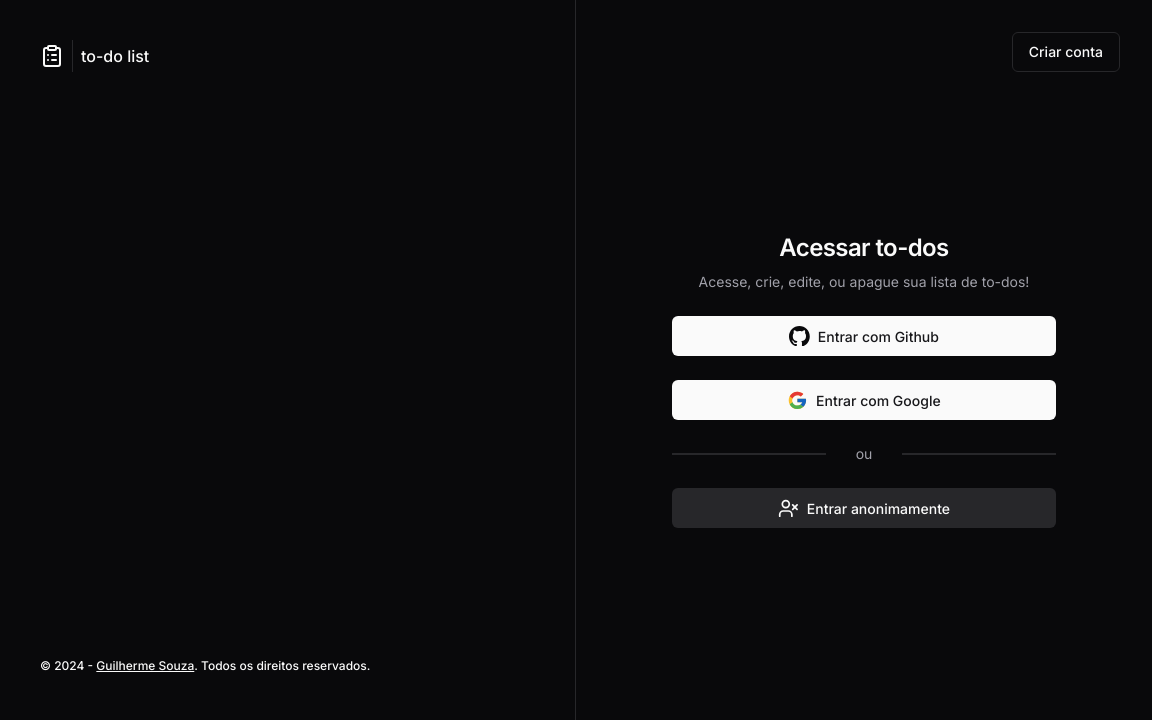
Test: Anonymous dashboard › should go back to sign-in corretly
Click the button with test id "sign-in-anon-btn" at (864, 508), box [672,488,1056,528]
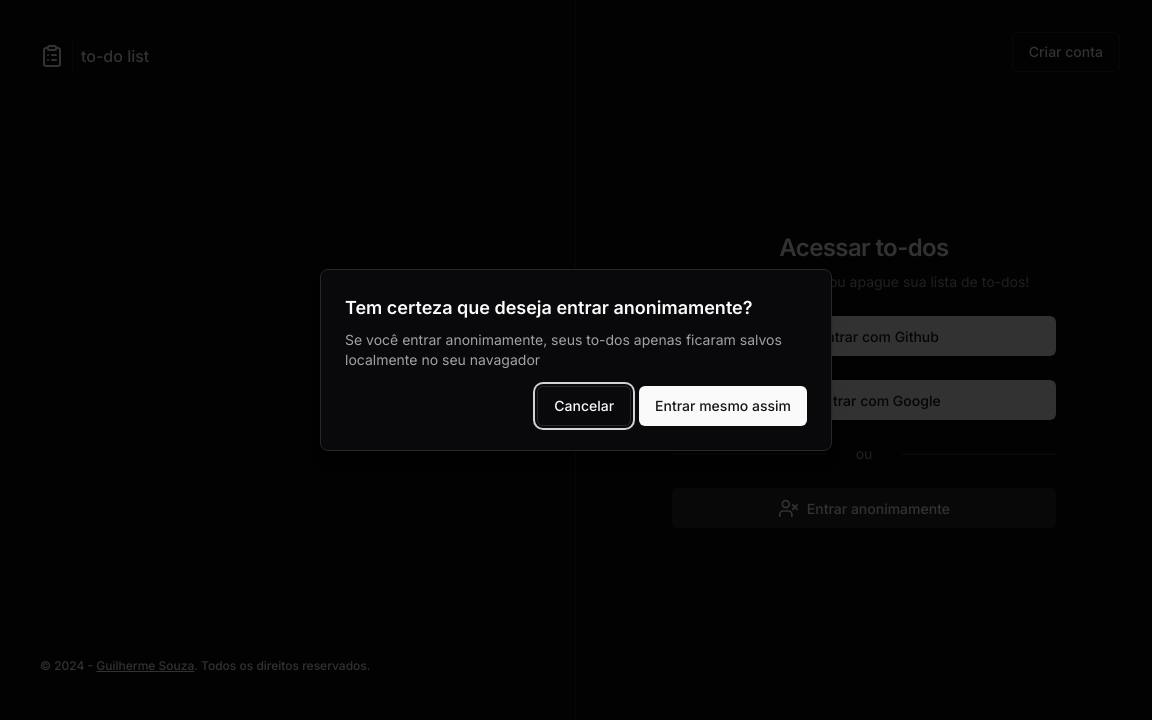
Click the button "Entrar mesmo assim" at (723, 406), box [639,386,807,426]
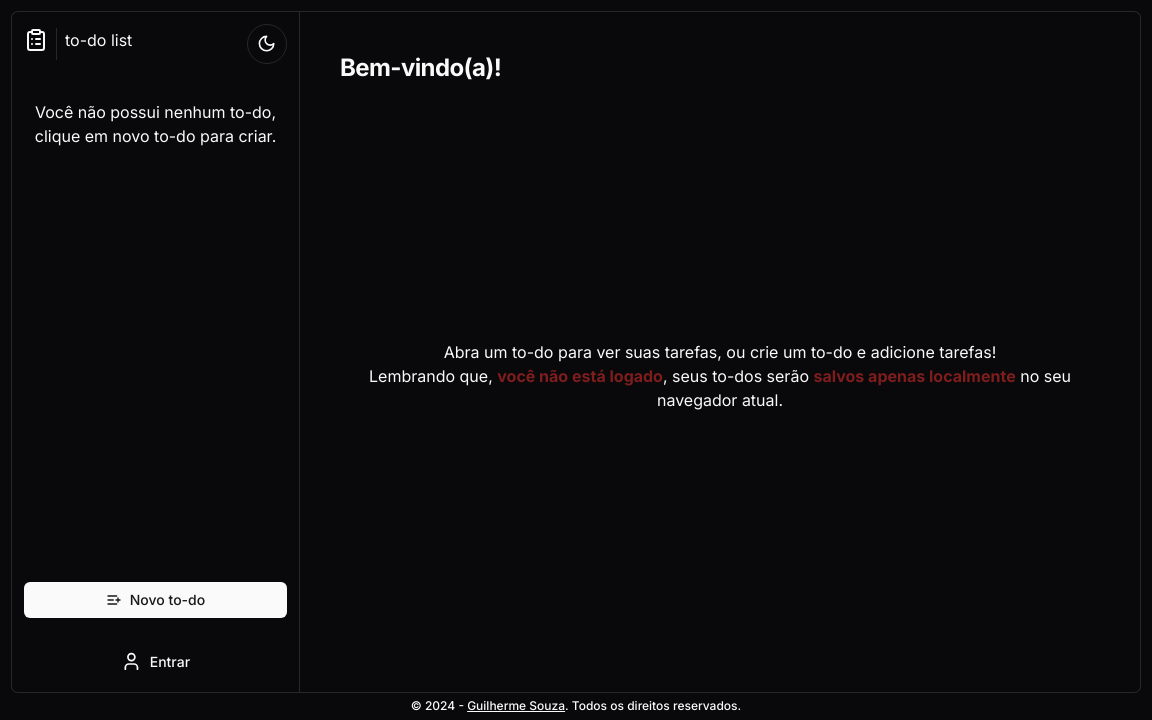
Click the link "Entrar" at (156, 662), box [121,651,190,672]
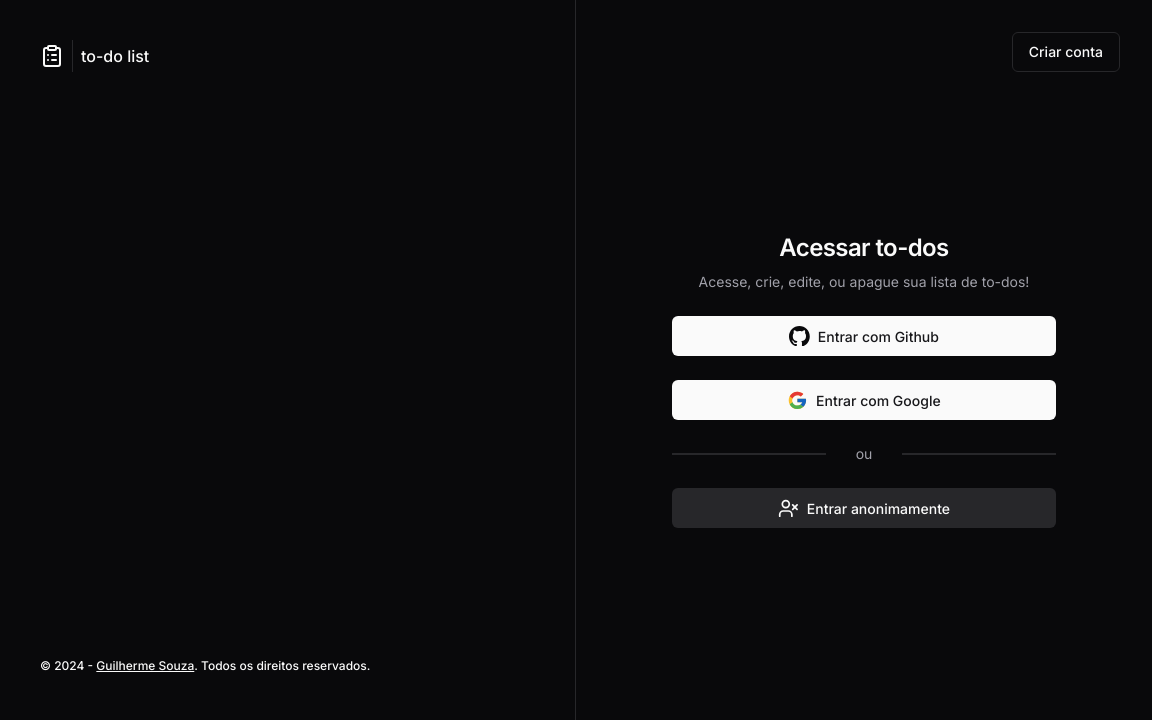
expect the heading "Acessar to-dos" is shown: met, box [779,232,949,264]
